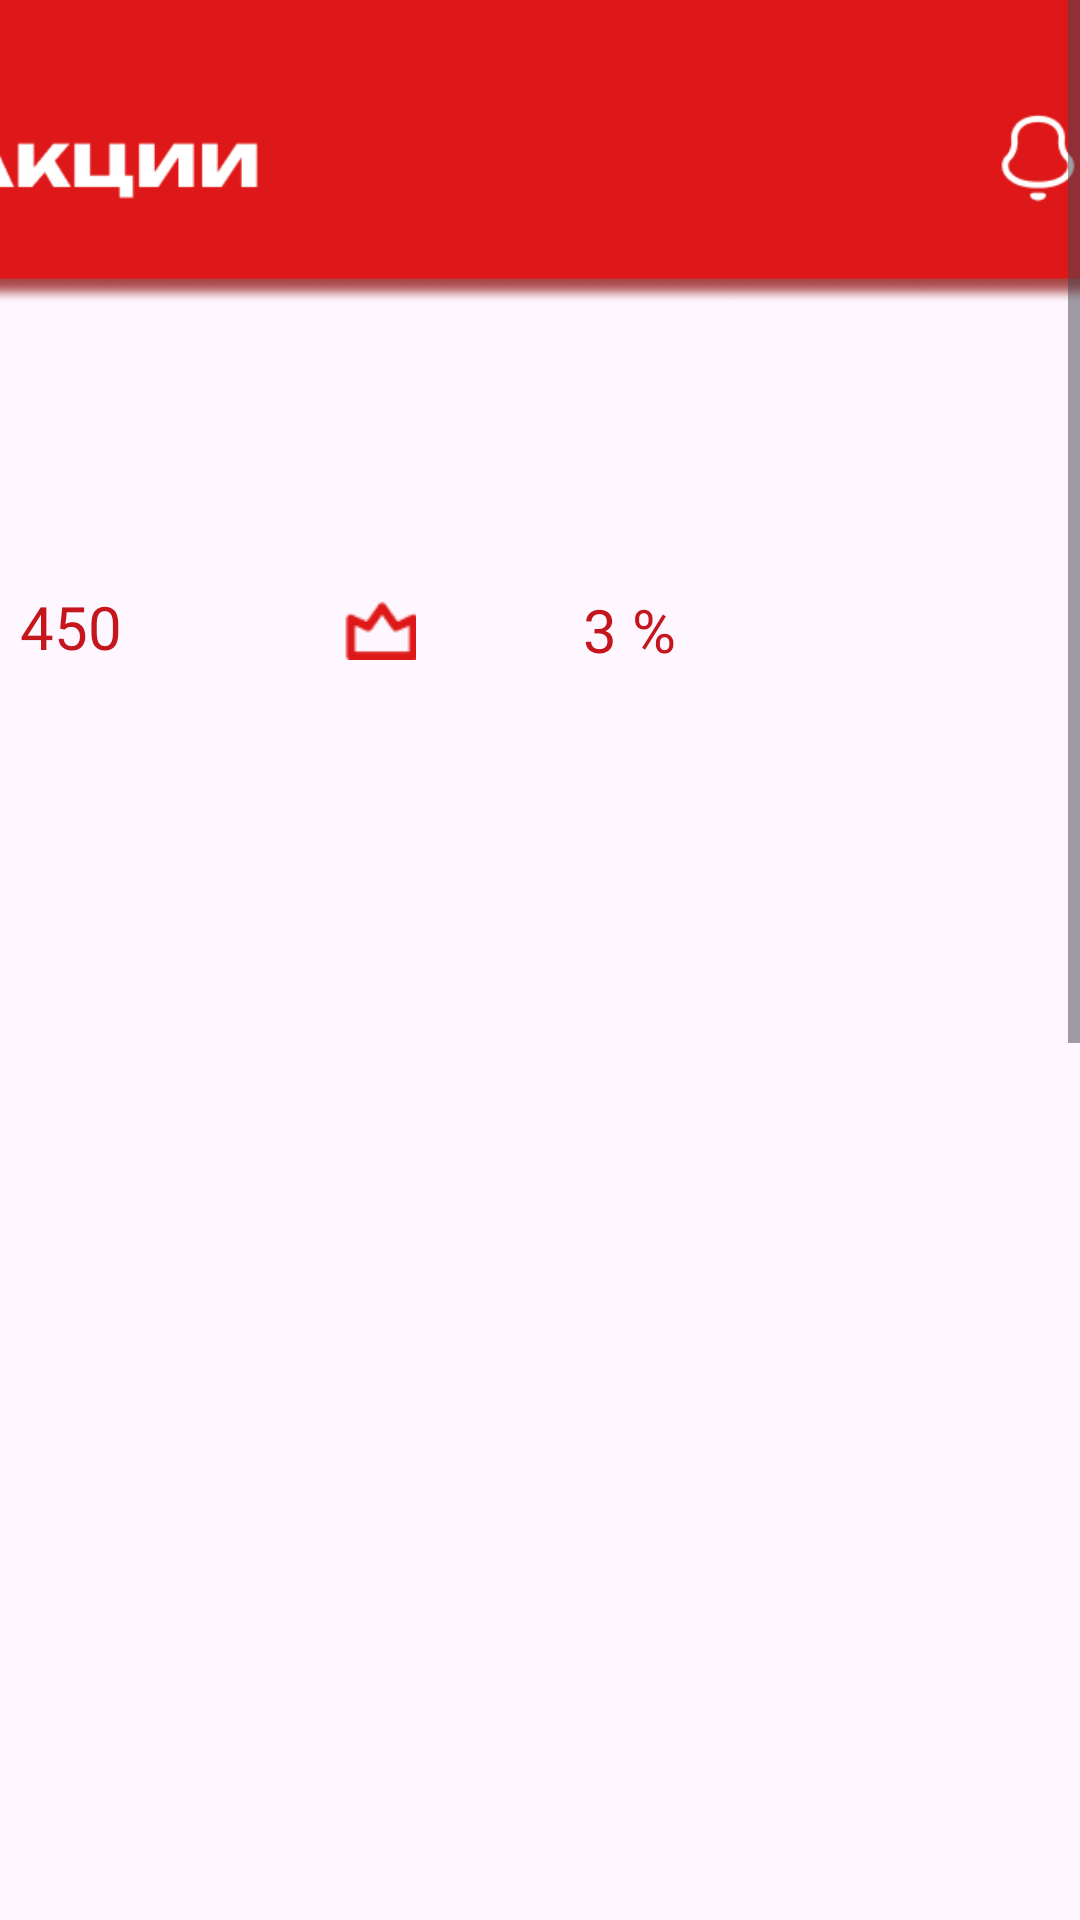

Icon bounding boxes for this 1080*1920 phone screenshot, format (x1, y1, x2, y2):
crown: (345, 601, 416, 660)
